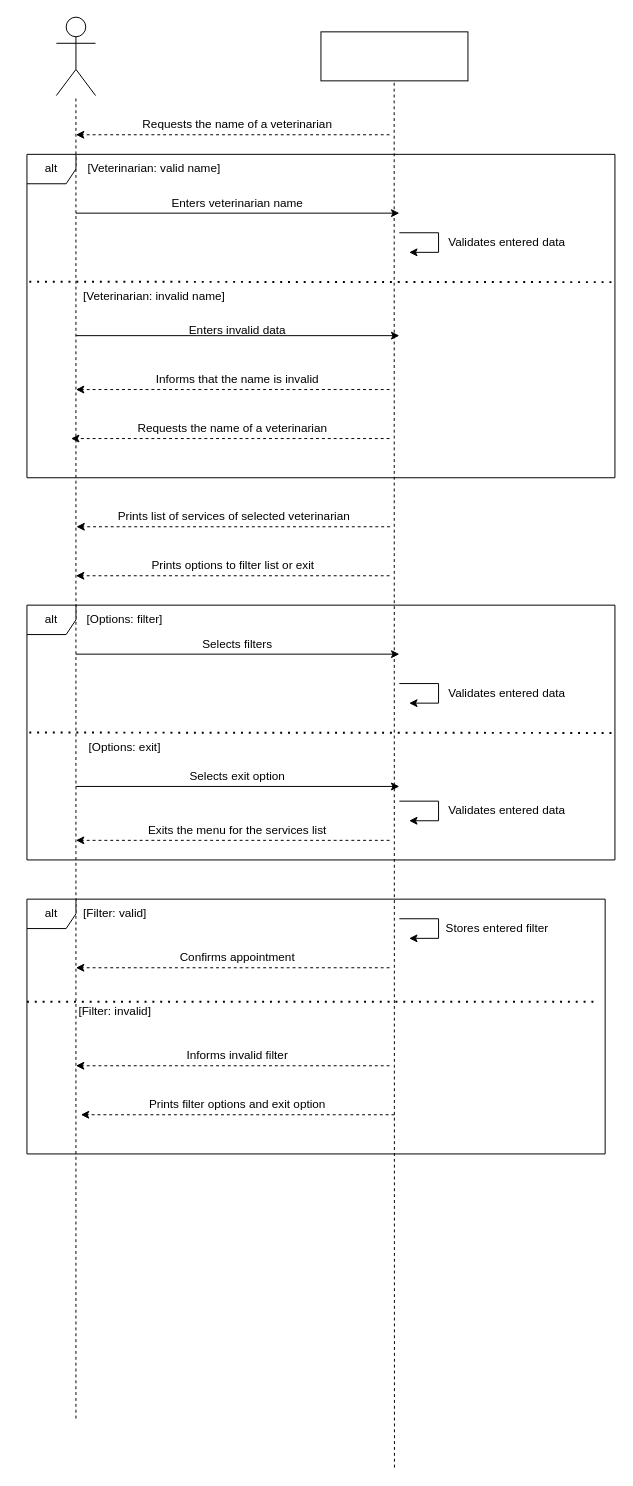
The diagram is 633 pixels wide and 1486 high, and some of its shapes have lost their labels. The shapes that lost their labels are listed below. From the top down, each one's centre as x and y in pixels, then its label:
At [75,56]: "User".
At [394,56]: "System".
